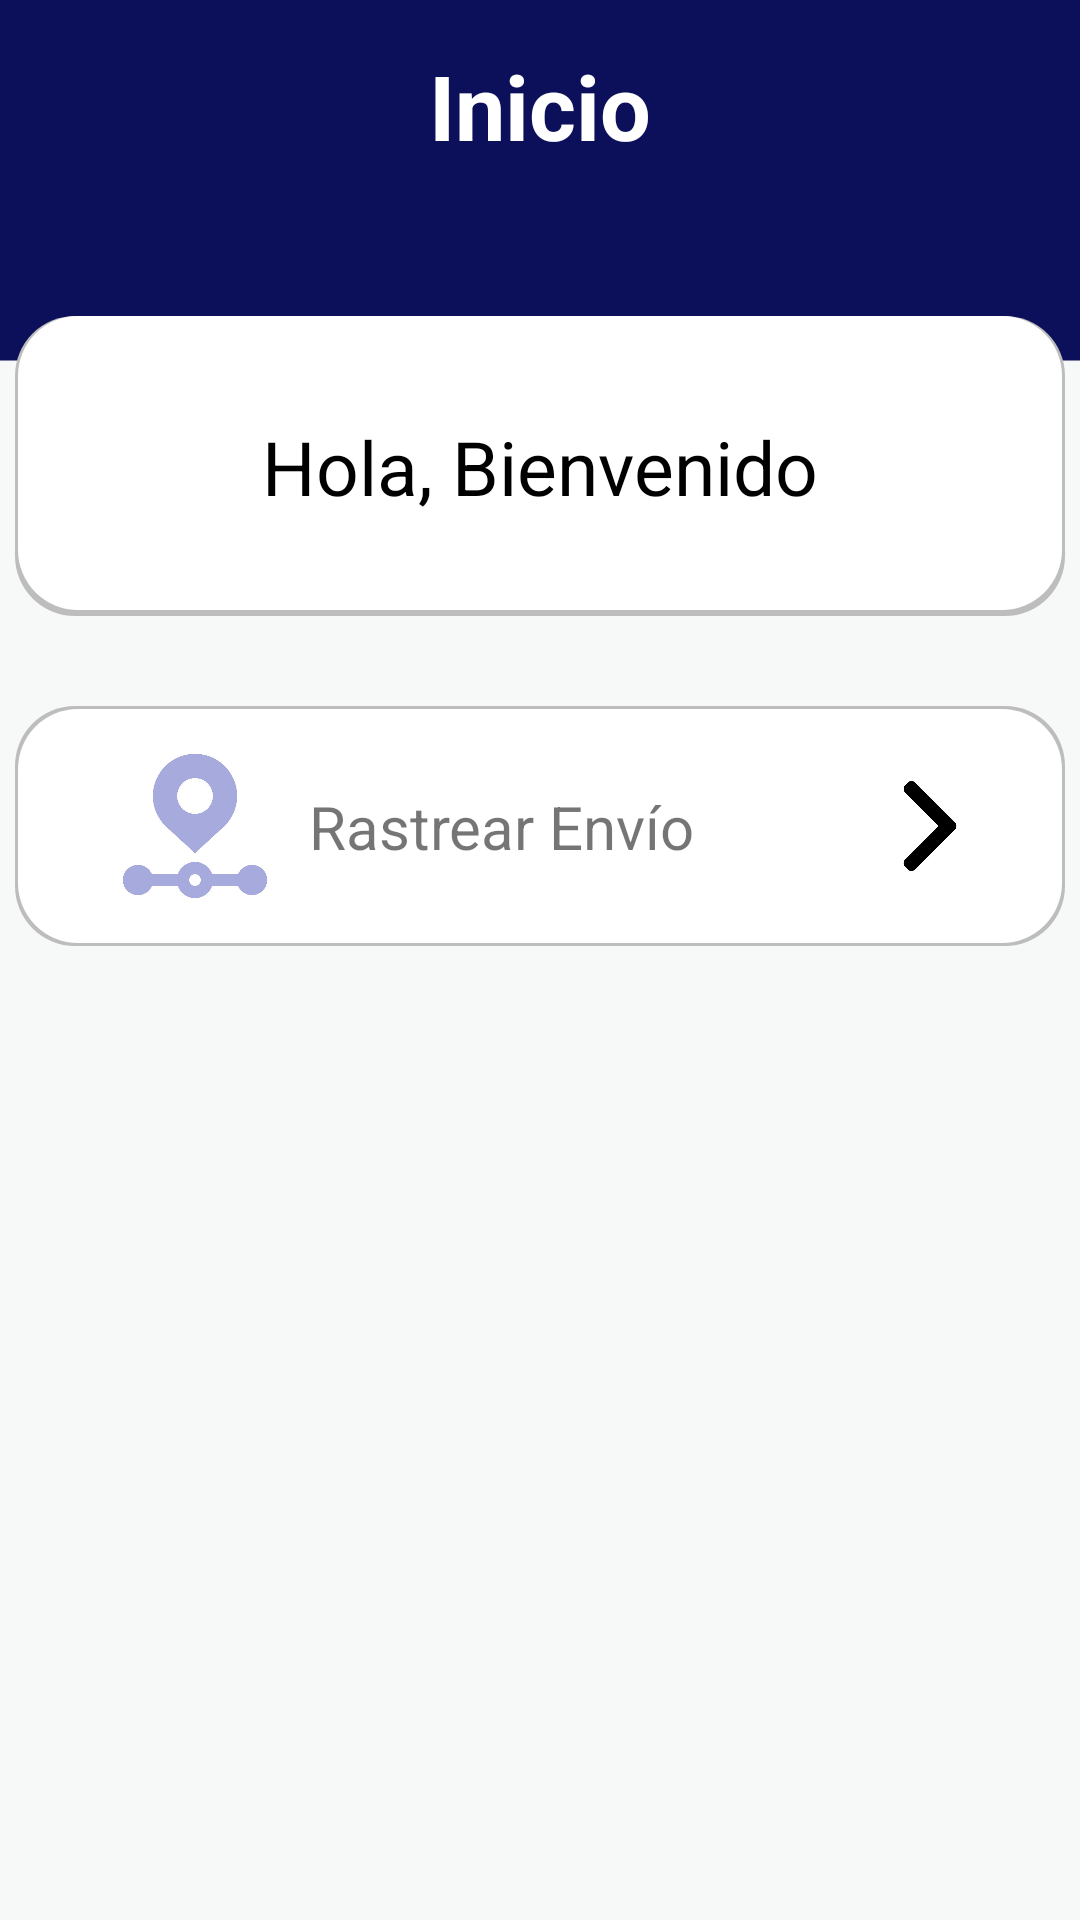

Icon bounding boxes for this 1080w x 1920h phone screenshot, format (x1, y1, x2, y2):
next: (903, 781, 957, 871)
